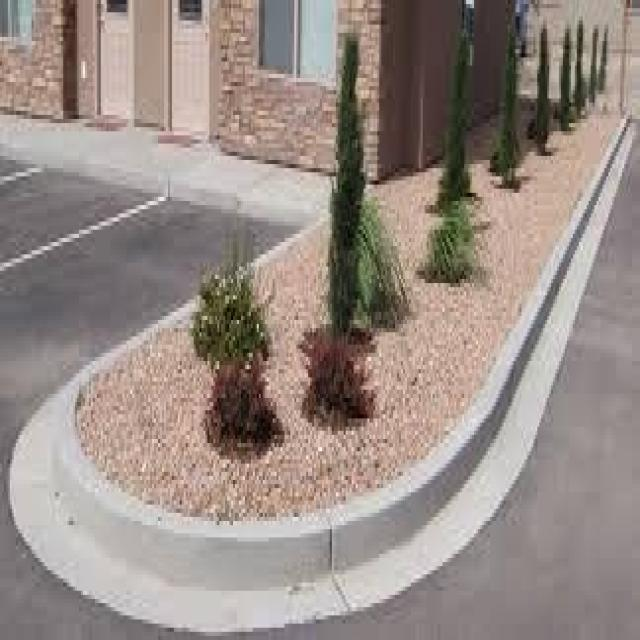curb: (6, 383, 352, 635), (331, 375, 528, 615), (498, 252, 578, 460)
